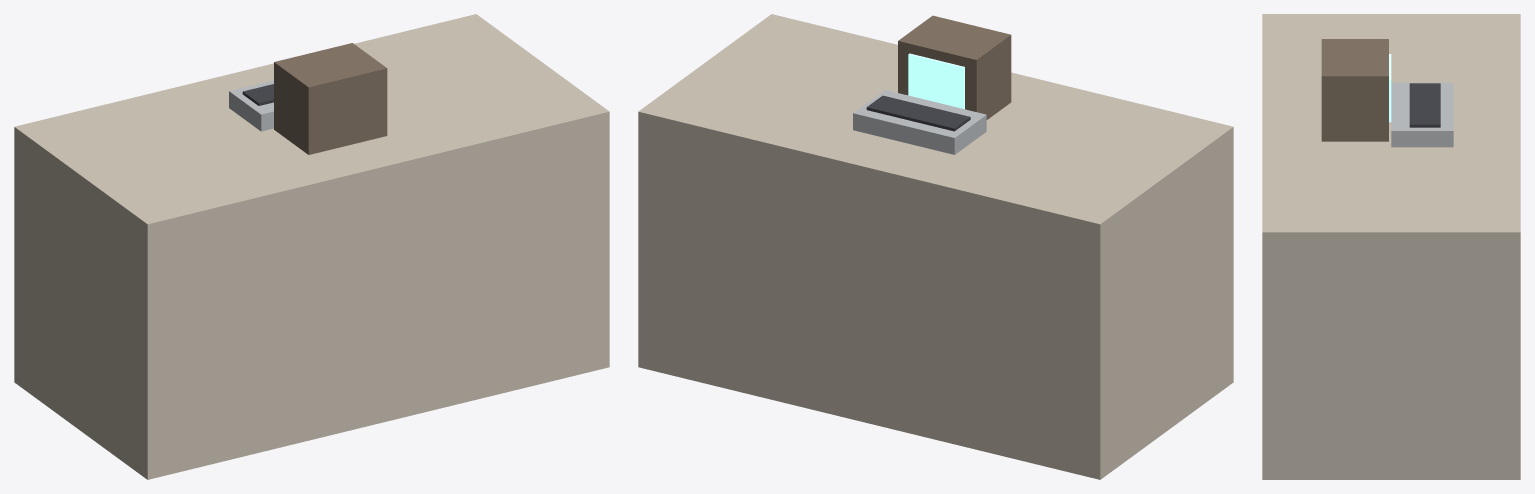
File: lab_computer_1.glb
3 renders of one model, left to right at view 1: azimuth 30°, elevation 25°; view 2: azimuth 150°, elevation 25°; view 3: azimuth 270°, elevation 25°, orthographic. The views are drawn at different scales.
Visible parts, largest first — view 1: Box1, Box4, Box2; view 2: Box1, Box4, Box2, Box5, Box3; view 3: Box1, Box4, Box2, Box3.
Boxes of the visible parts, x1,y1,x2,y2 form: Box1: (14,14,609,479); Box4: (274,43,387,154); Box2: (229,80,273,131); Box1: (638,14,1233,479); Box4: (898,15,1011,119); Box2: (853,90,986,154); Box5: (908,53,964,109); Box3: (866,95,970,131); Box1: (1262,14,1520,479); Box4: (1321,39,1388,141); Box2: (1391,82,1453,147); Box3: (1409,83,1440,127).
Size of the model in its own units: 1.4 by 0.936 by 0.7.
